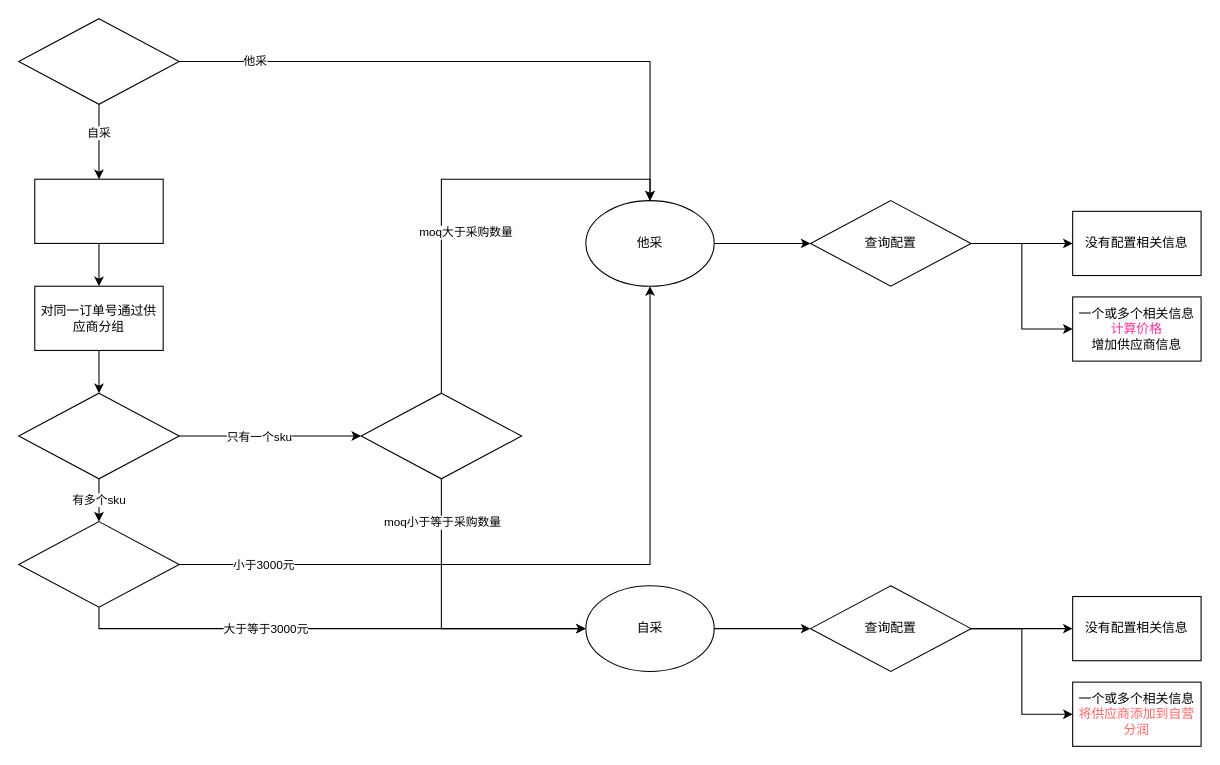
This 1220x765 diagram has some shape labels left out. The centre of each missing label's shape, as x and y in pixels:
"moq是否大于采购数量" goes at point (441, 435).
"供应商下是否 只有一个sku" goes at point (98, 435).
"判断当前订单总价 是否小于3000元" goes at point (98, 564).
"单个订单行采购模式" goes at point (98, 61).
"通过sap订单号分组" goes at point (98, 210).
